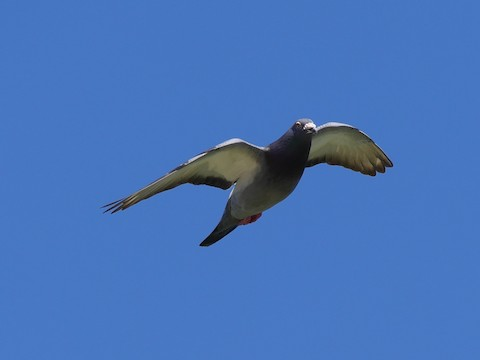pigeon: (100, 106, 397, 253)
